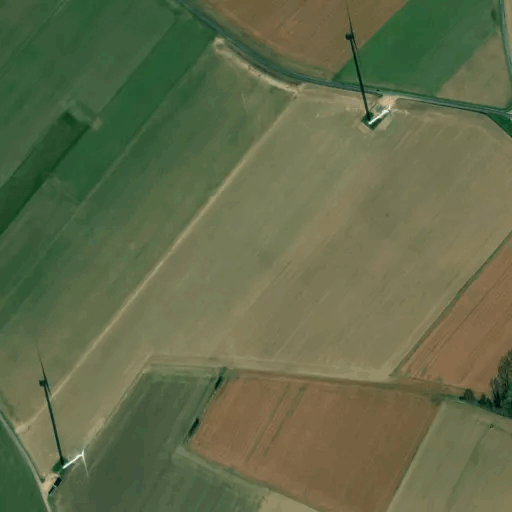wt: (28, 337, 95, 481), (336, 3, 400, 133)
